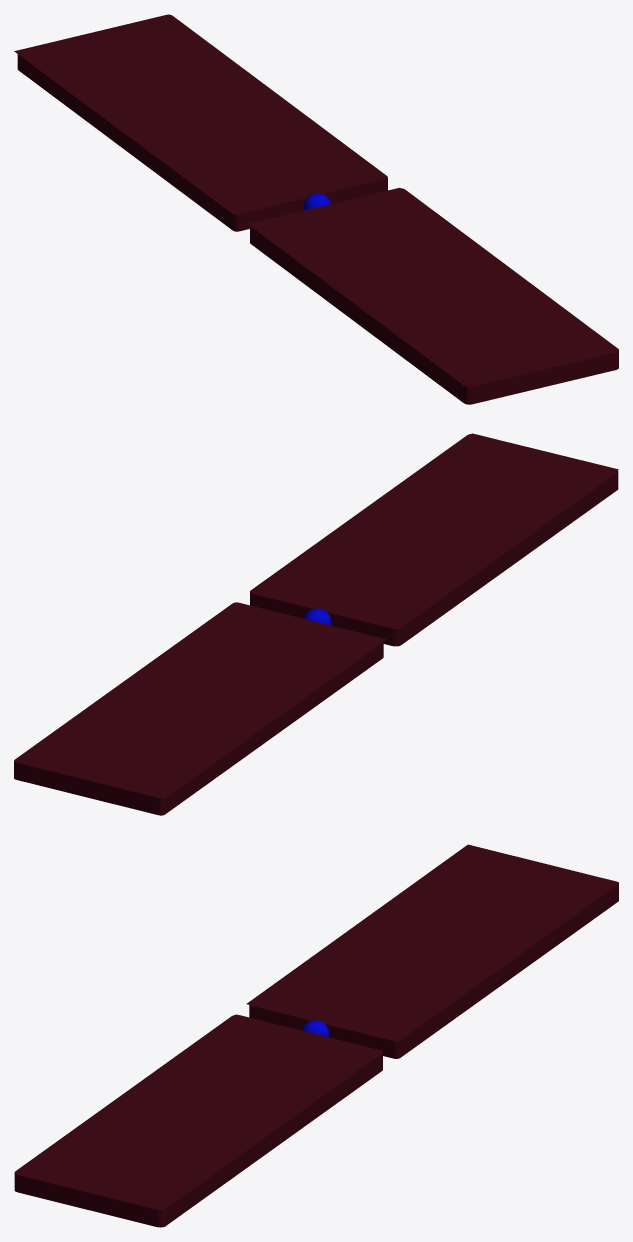
File: Rotationg.obj
3 views of the same model, one above another, from view 1: azimuth 30°, elevation 25°; view 2: azimuth 150°, elevation 25°; view 3: azimuth 330°, elevation 25° (orthographic).
Parts seen in each view (by area): view 1: 平面.001, 平面, 立方体.043, 立方体.042; view 2: 平面.001, 平面, 立方体.042, 立方体.043; view 3: 平面.001, 平面, 立方体.043, 立方体.042.
Boxes of the visible parts, <box> form: 平面.001: <box>14,14,386,214</box>; 平面: <box>250,187,618,387</box>; 立方体.043: <box>250,188,618,404</box>; 立方体.042: <box>17,15,387,231</box>; 平面.001: <box>14,602,386,798</box>; 平面: <box>250,433,618,628</box>; 立方体.042: <box>14,602,383,815</box>; 立方体.043: <box>250,434,618,646</box>; 平面.001: <box>246,844,618,1040</box>; 平面: <box>14,1014,382,1209</box>; 立方体.043: <box>14,1015,382,1227</box>; 立方体.042: <box>249,878,618,1058</box>.
Size of the model in its own units: 1.21 by 0.186 by 5.99.
